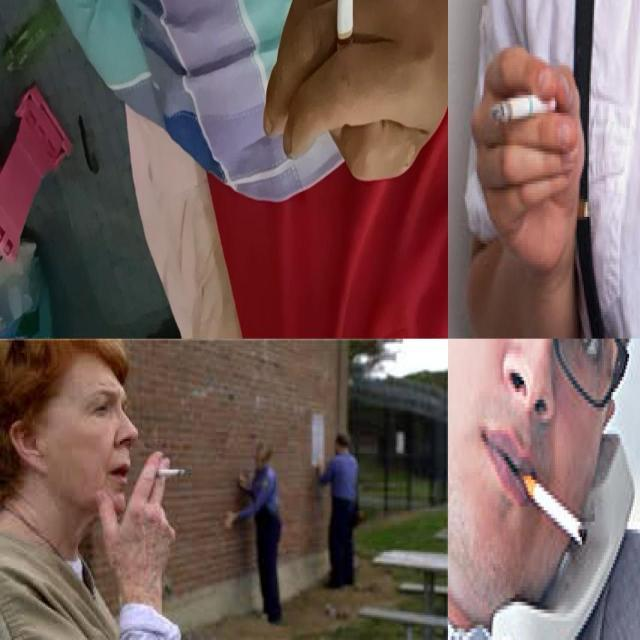cigarette: (522, 464, 590, 549), (486, 89, 560, 122), (336, 0, 354, 83), (152, 469, 186, 477)
